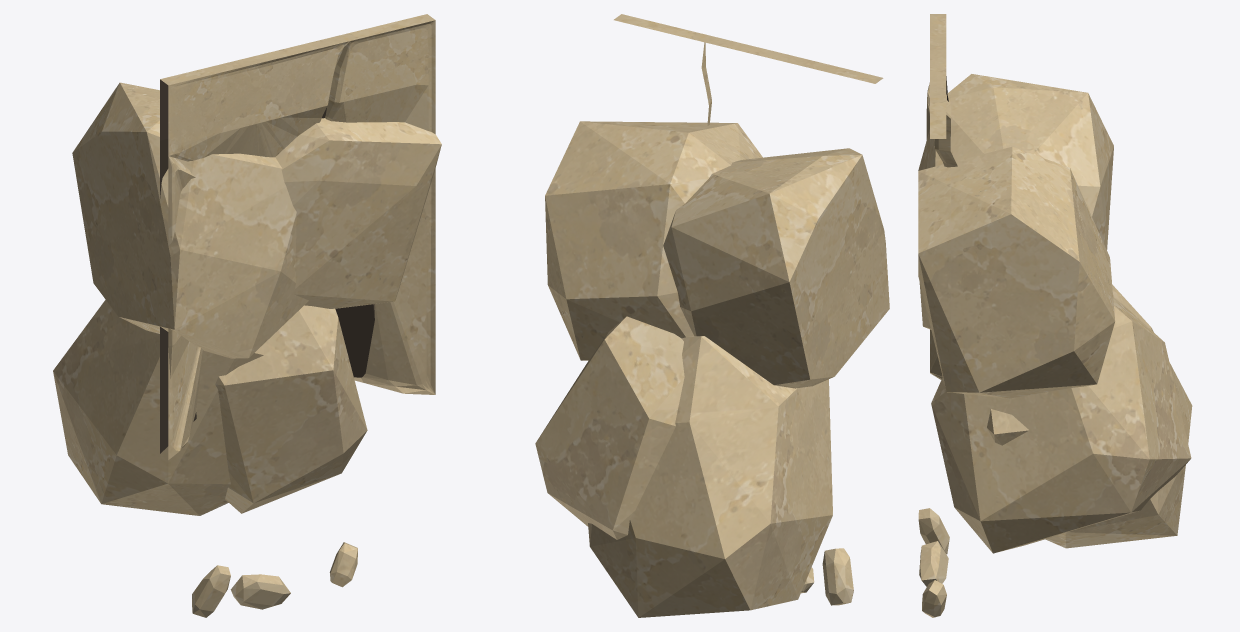
Rendered from ground_bottom_square_edge_06.glb.
The picture shows the model from 3 angles, left to right: view 1: azimuth 30°, elevation 25°; view 2: azimuth 150°, elevation 25°; view 3: azimuth 270°, elevation 25°; orthographic projection. The views are drawn at different scales.
Parts seen in each view (by area): view 1: GroundBottomSquareEdge06_Body; view 2: GroundBottomSquareEdge06_Body; view 3: GroundBottomSquareEdge06_Body.
Part boxes in pixels (left/top/right/bottom): GroundBottomSquareEdge06_Body: left=53, top=14, right=441, bottom=617; GroundBottomSquareEdge06_Body: left=535, top=14, right=889, bottom=617; GroundBottomSquareEdge06_Body: left=918, top=14, right=1192, bottom=617.
Bounding box in the file's own units: 1 × 1.96 × 1.04.
5 materials, 4 textured.
